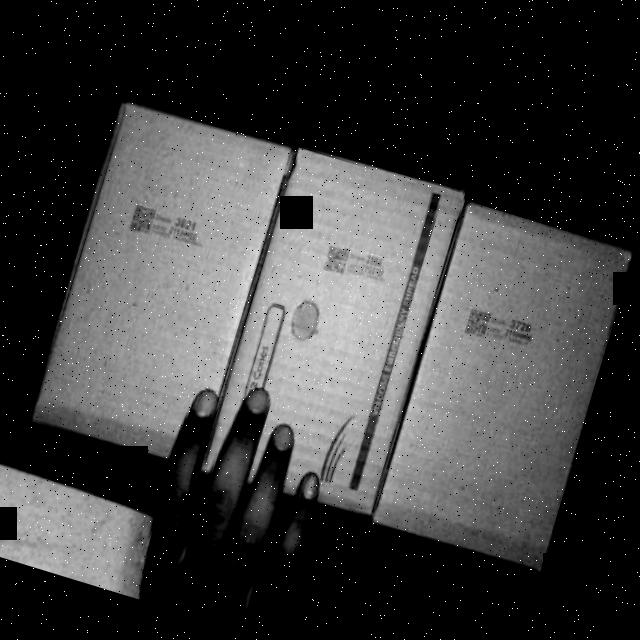box: (34, 101, 300, 466), (374, 206, 636, 564), (207, 155, 462, 518)
